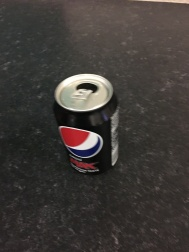can_black: (32, 65, 134, 195)
